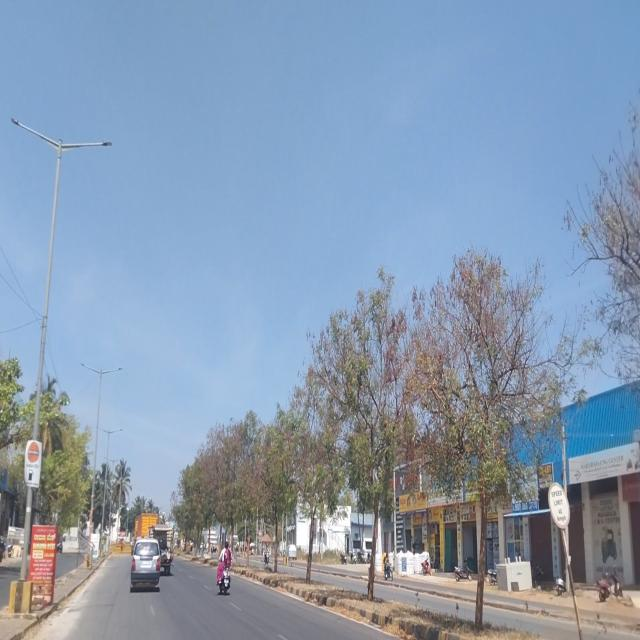bien_cam: (547, 480, 571, 531)
